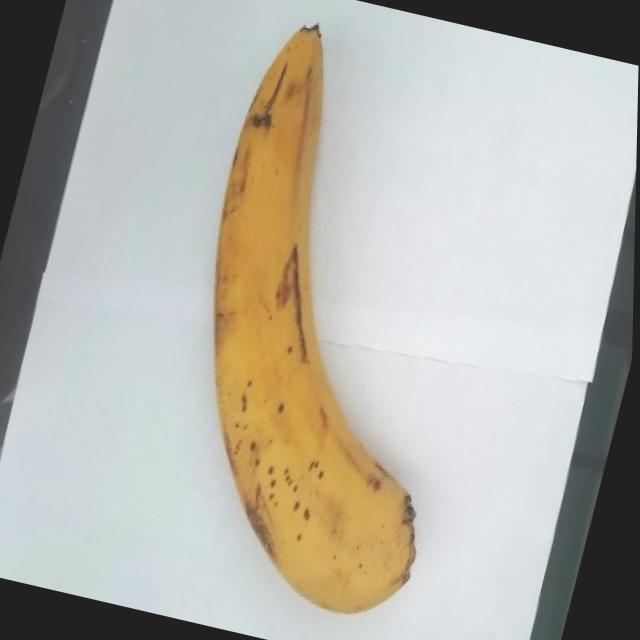Banana: (130, 12, 540, 628)
